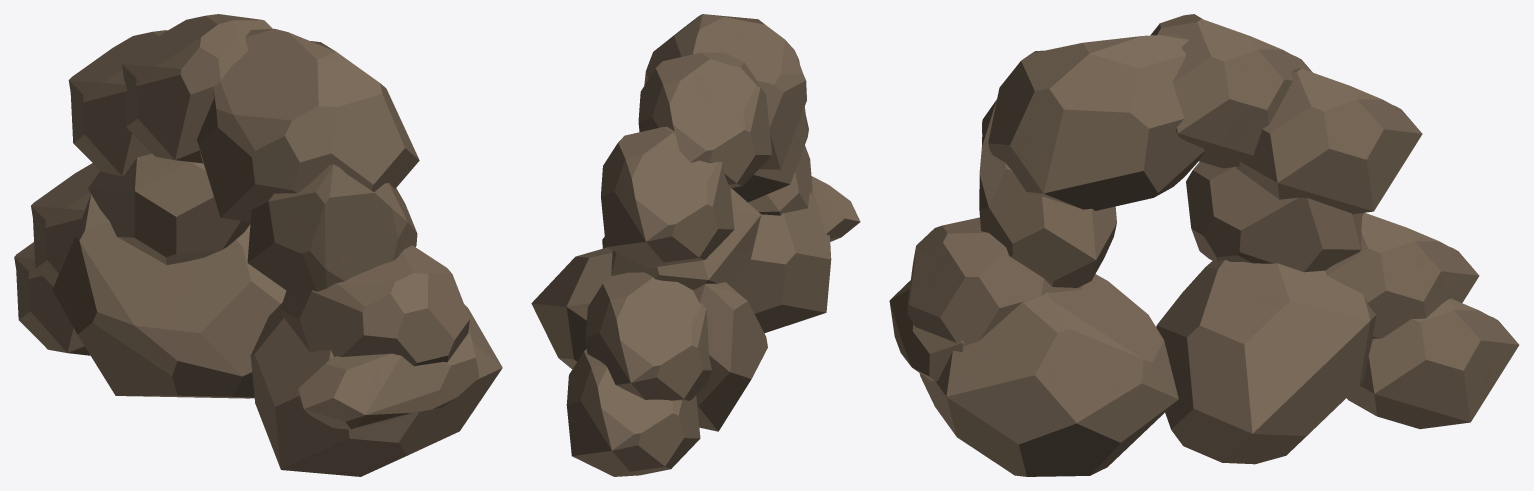
The model's file is Rock3.fbx.
3 views of the same model, side by side, from view 1: azimuth 30°, elevation 25°; view 2: azimuth 150°, elevation 25°; view 3: azimuth 270°, elevation 25° (orthographic). The views are drawn at different scales.
Parts seen in each view (by area): view 1: Icosphere.005; view 2: Icosphere.005; view 3: Icosphere.005.
Part boxes in pixels (x1,y1,x2,y2): Icosphere.005: (14,14,502,476); Icosphere.005: (531,14,860,476); Icosphere.005: (889,14,1519,476).
Size of the model in its own units: 503 by 687 by 942.
